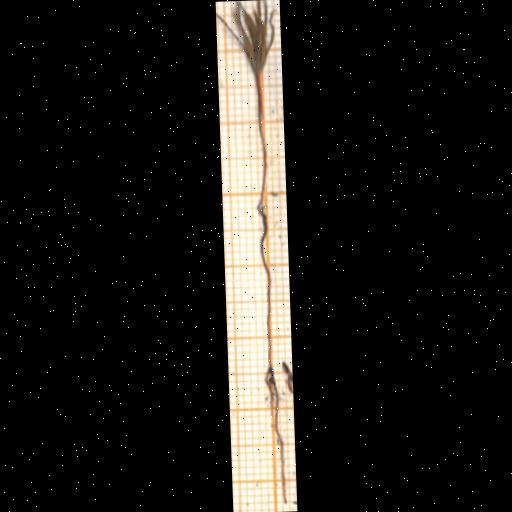flowerPinus: (217, 0, 275, 76)
rootPinus: (259, 196, 271, 359)
stemPinus: (255, 73, 268, 200)
